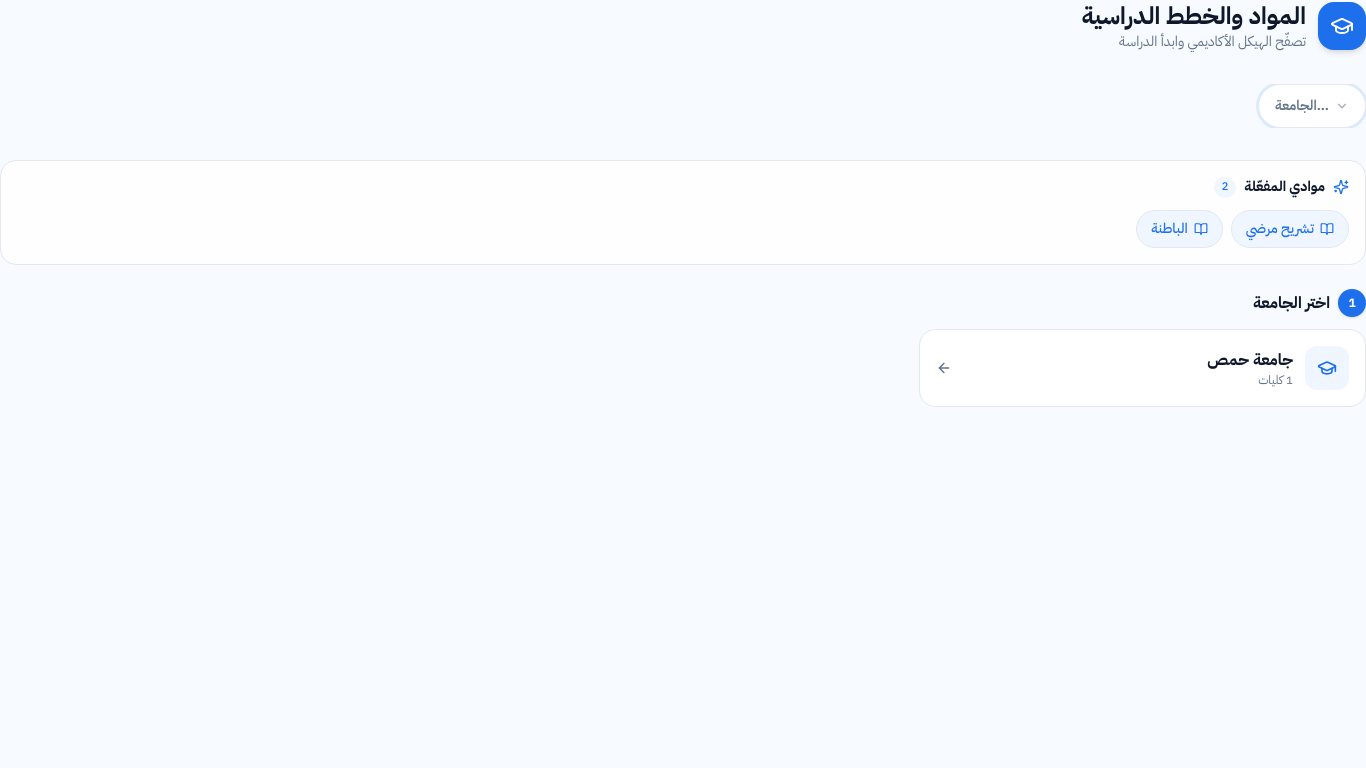
Test: SubjectsPage — card click flow (modal vs redirect) › opens the activation modal over the page for an unentitled subject (no navigation)
Click the text "جامعة حمص" at (1250, 360), box [1207,348,1293,372]
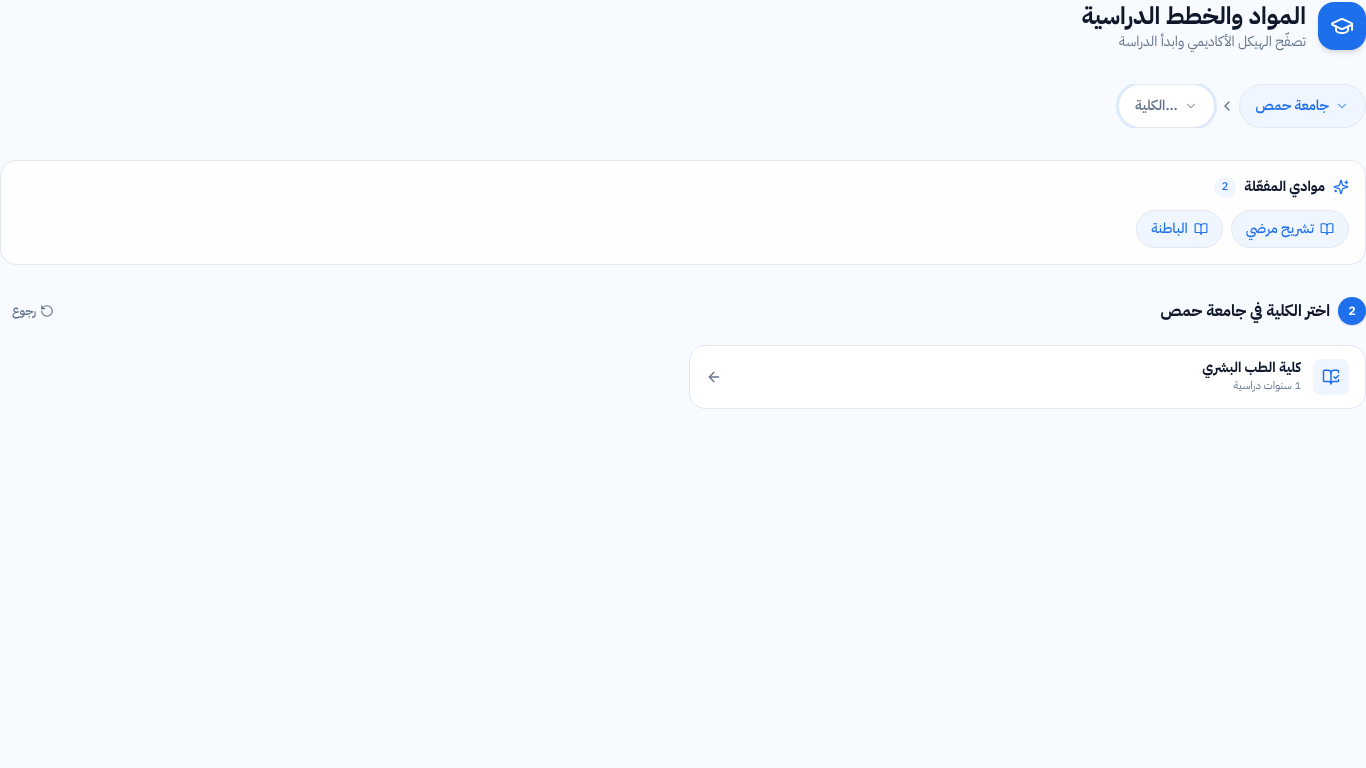
Click the text "كلية الطب البشري" at (1252, 368), box [1202,358,1301,378]
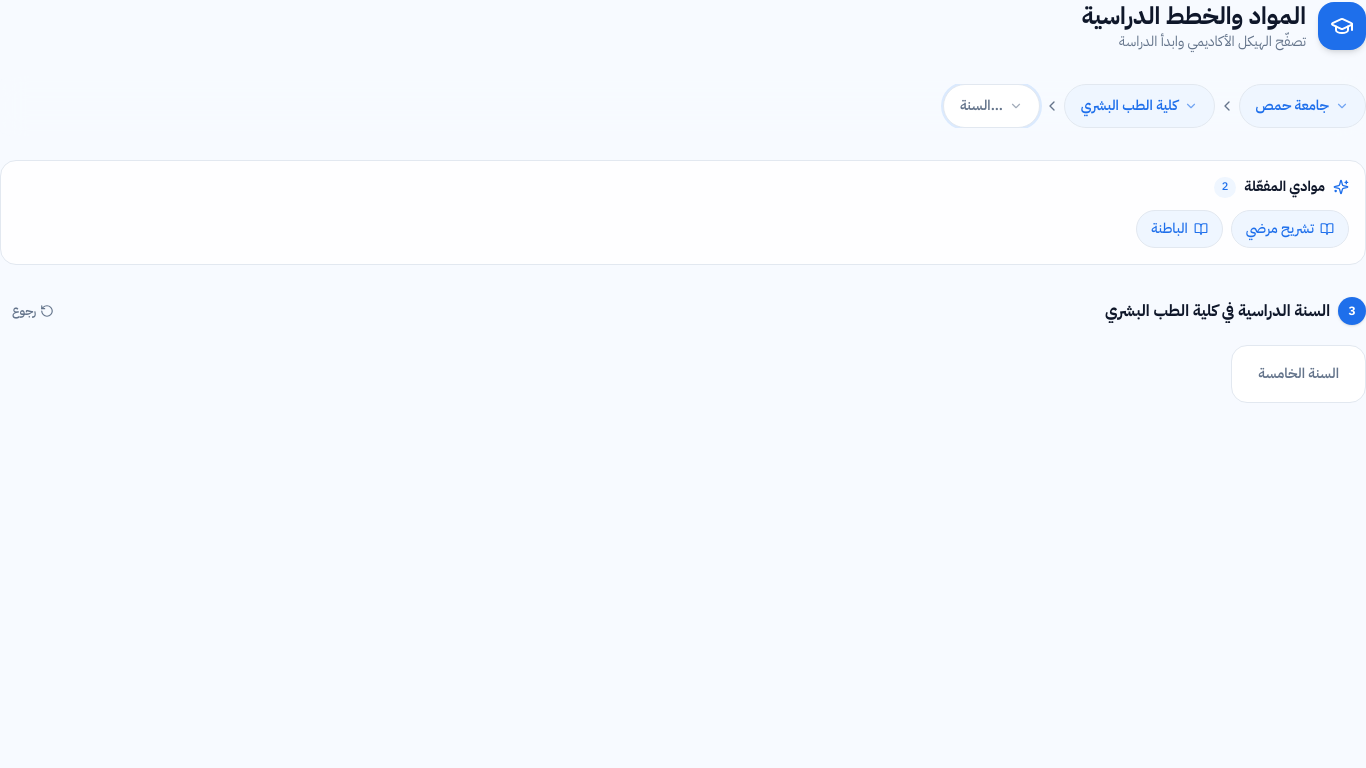
Click the tab with test id "year-tab" at (1299, 374), box [1238,352,1359,396]
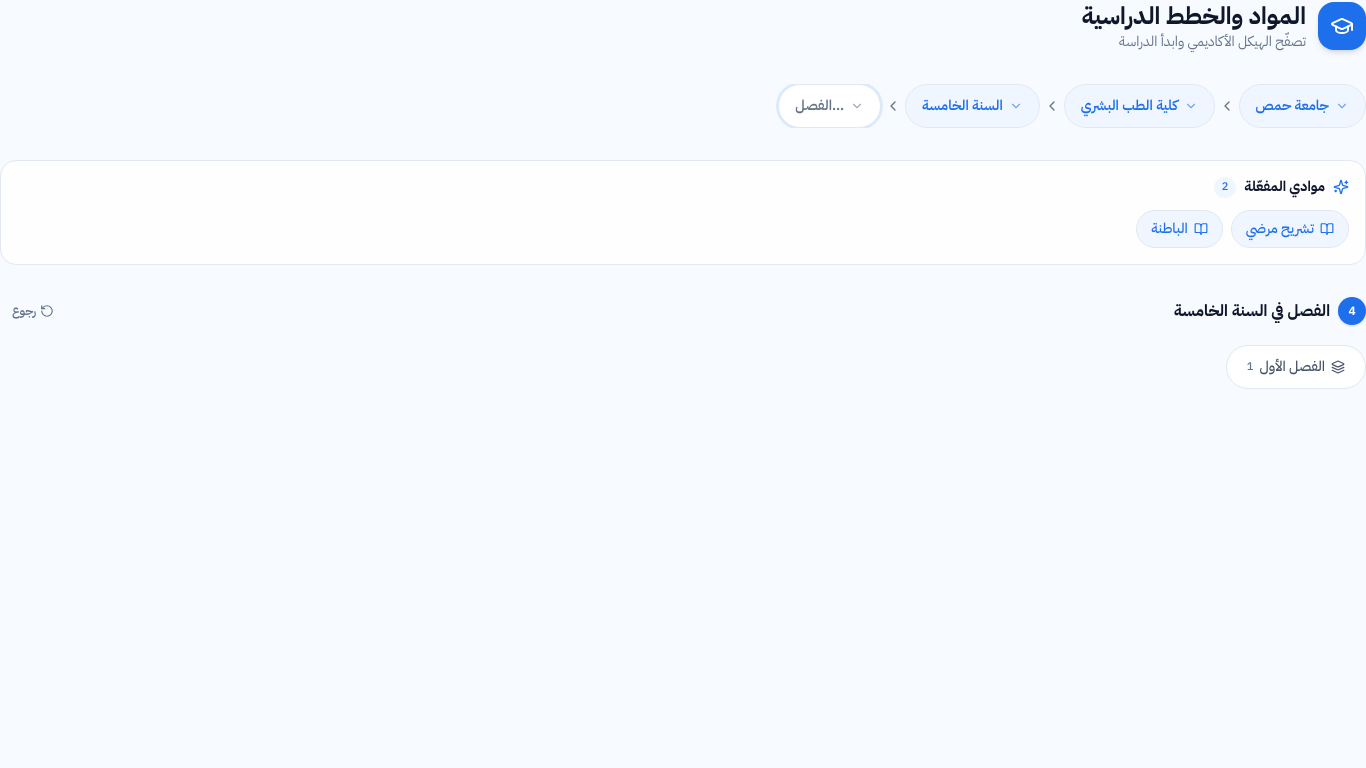
Click the button with test id "semester-chip" at (1296, 366), box [1226,344,1365,388]
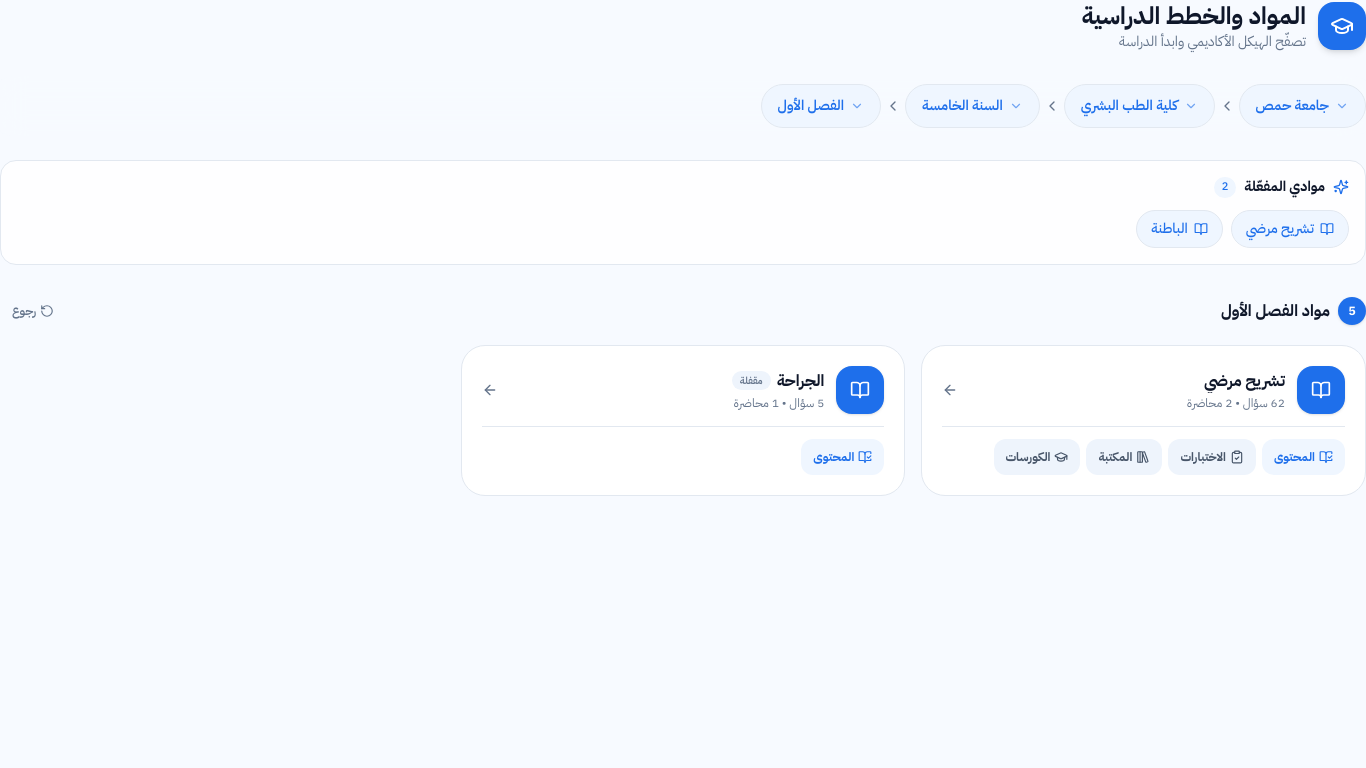
Click the button with test id "subject-card-open" that starts with "الجراحة" at (860, 390), box [482,366,884,426]
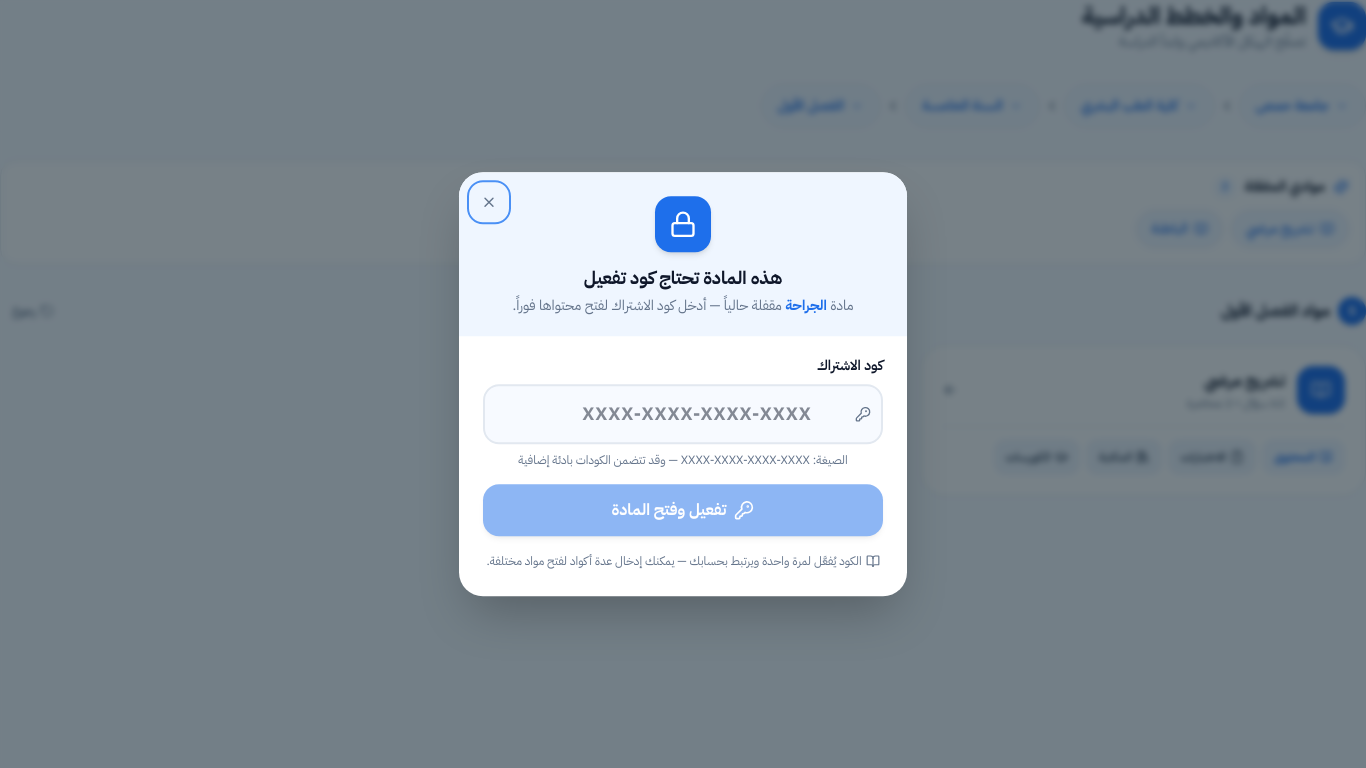
Expected: the text "مقفلة" is shown, [732,371,771,390]
Expected: the dialog with test id "activation-modal" is shown, [459,172,907,596]
Expected: the dialog with test id "activation-modal" shows "الجراحة", [785,295,827,316]
